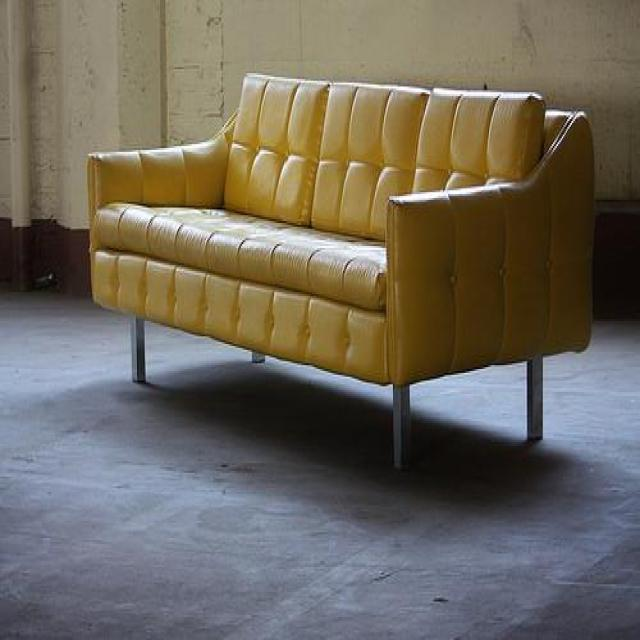sofa: (85, 70, 598, 482)
